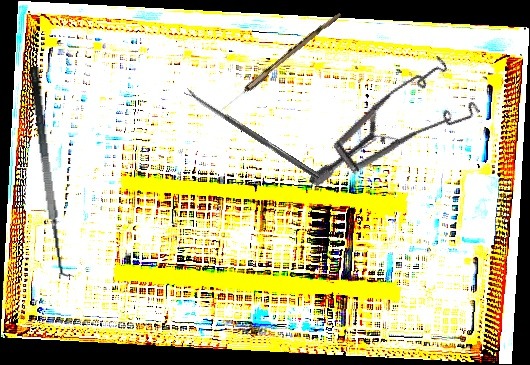Spatula Surgical: (27, 64, 79, 279)
Speculum: (307, 30, 494, 238)
Surgical Spoon: (211, 9, 342, 121), (183, 87, 322, 180)
